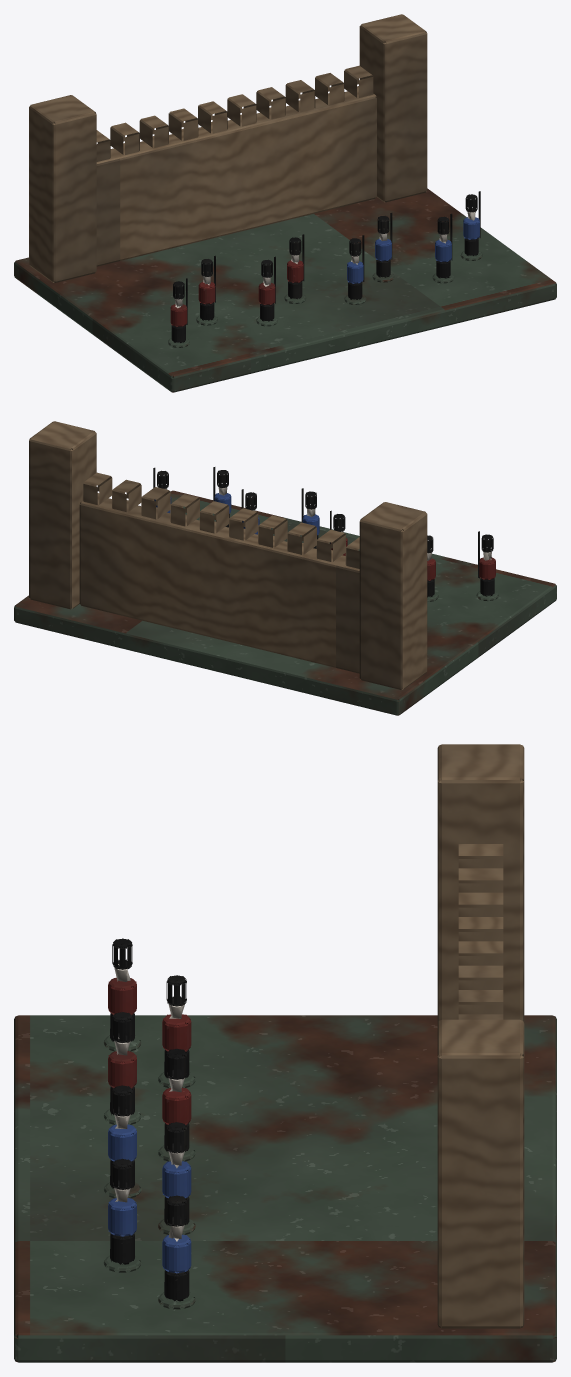
Rendered from TY08_toy_fort_soldiers.glb.
3 views of the same model, one above another, from view 1: azimuth 30°, elevation 25°; view 2: azimuth 150°, elevation 25°; view 3: azimuth 270°, elevation 25° (orthographic). The views are drawn at different scales.
Visible parts, largest first — view 1: TY08_toy_fort_soldiers; view 2: TY08_toy_fort_soldiers; view 3: TY08_toy_fort_soldiers.
Boxes of the visible parts, x1,y1,x2,y2 form: TY08_toy_fort_soldiers: [14, 14, 556, 392]; TY08_toy_fort_soldiers: [14, 421, 556, 715]; TY08_toy_fort_soldiers: [14, 744, 556, 1362].
Size of the model in its own units: 0.8 by 0.3543 by 0.5714.
Materials: 6 (6 with a texture image).
